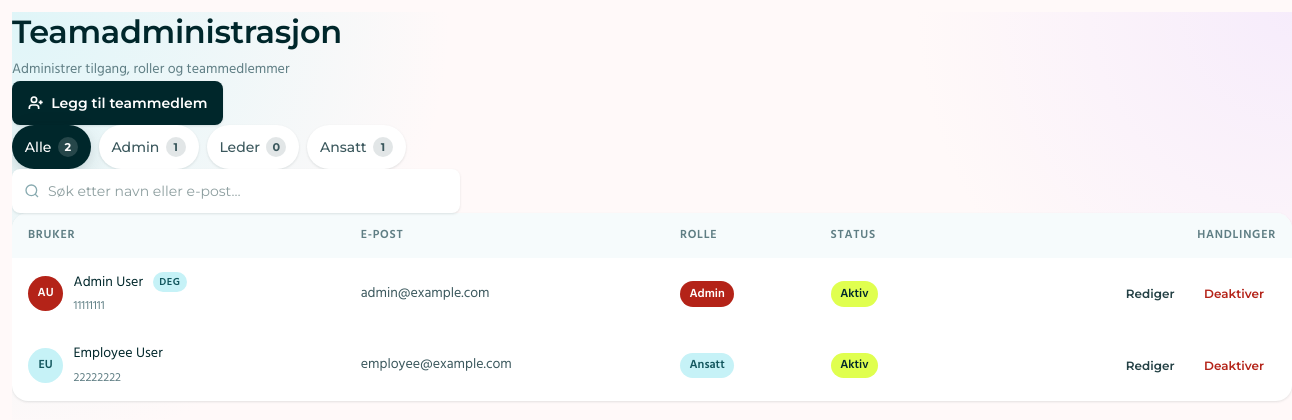
Test case: UsersView › shows all users when All chip is clicked
// First filter to admin only
Click the button with class "role-chip" showing "Admin 1".
click(149, 147)  # box [99,125,199,169]
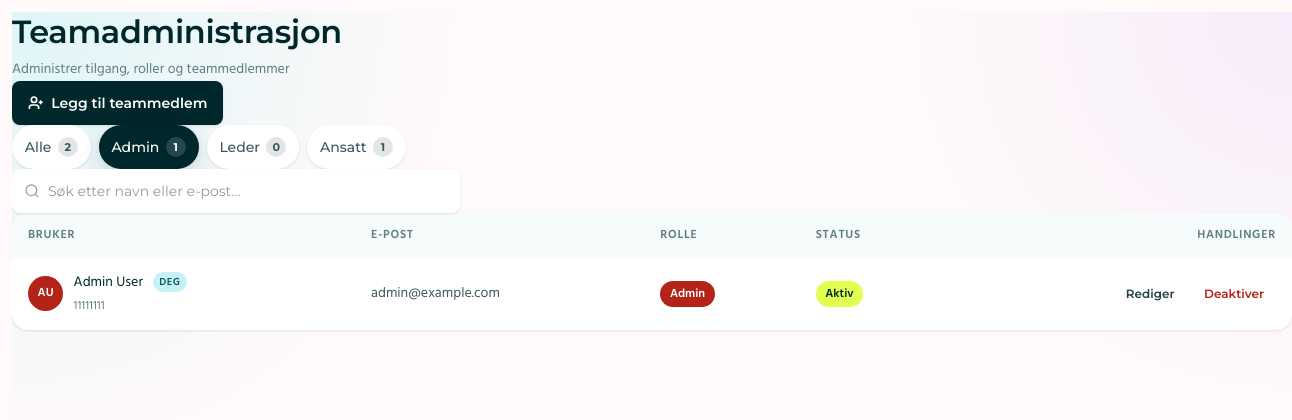
// Then click All
Click the button with class "role-chip" showing "Alle 2".
click(51, 147)  # box [12,125,91,169]
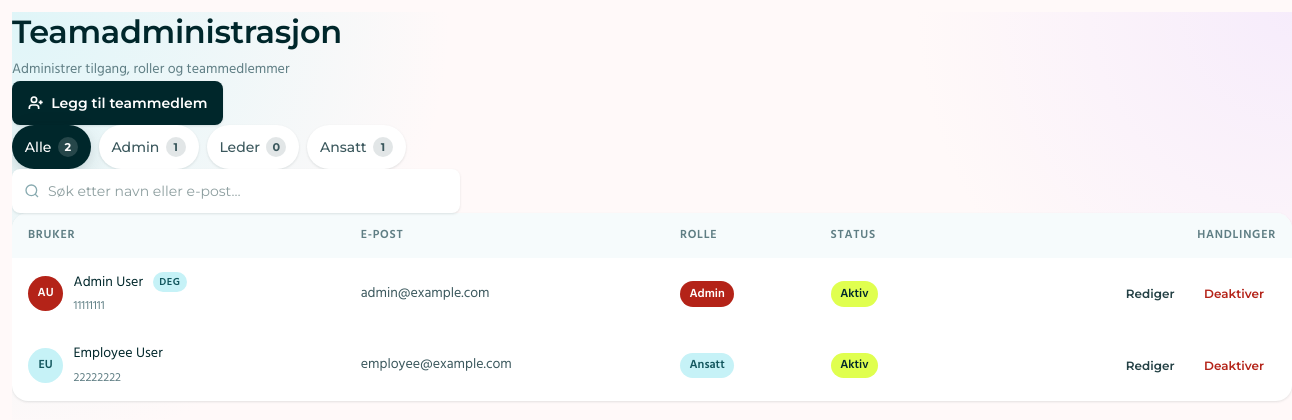
expect the text "Admin User" is shown: met, box [74,271,146,294]
expect the text "Employee User" is shown: met, box [74,342,163,366]
